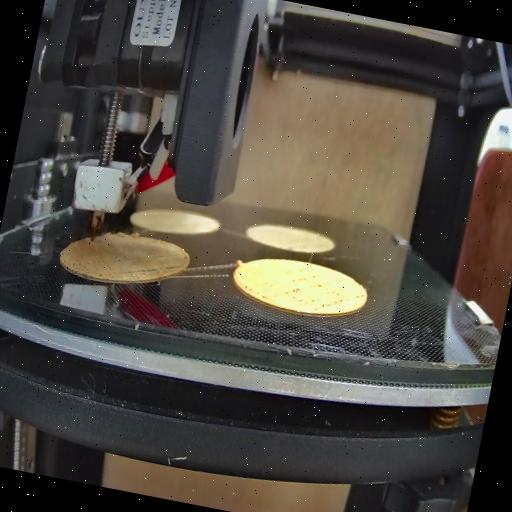under_extrusion: (284, 270, 366, 318), (58, 233, 112, 283), (112, 252, 179, 291), (242, 274, 272, 303)
